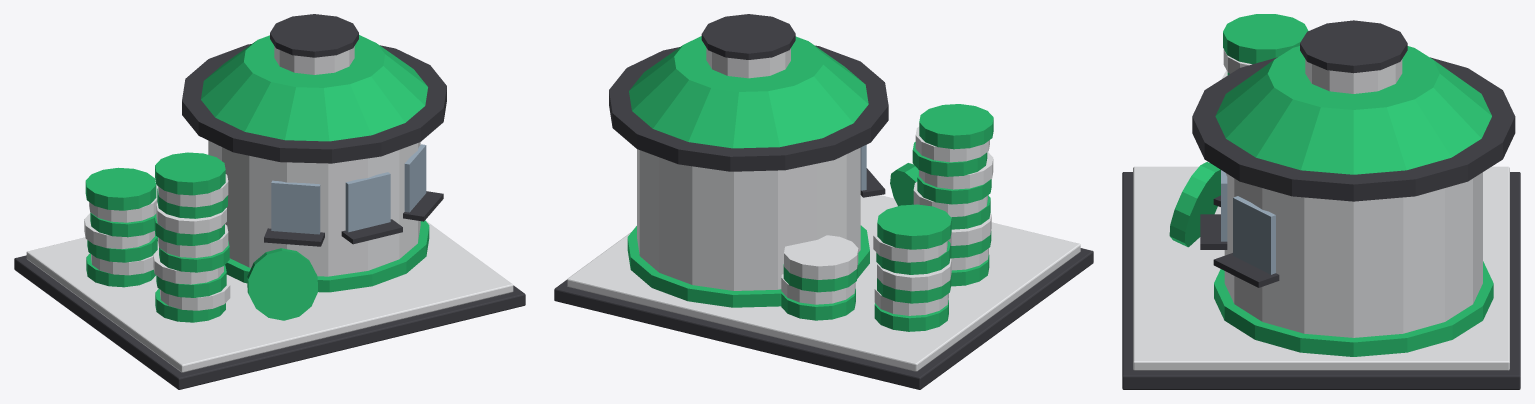
File: coins.glb
The picture shows the model from 3 angles, left to right: view 1: azimuth 30°, elevation 25°; view 2: azimuth 150°, elevation 25°; view 3: azimuth 270°, elevation 25°; orthographic projection. The views are drawn at different scales.
Visible parts, largest first — view 1: coins; view 2: coins; view 3: coins.
Boxes of the visible parts, x1,y1,x2,y2 form: coins: [14, 14, 525, 389]; coins: [554, 14, 1093, 389]; coins: [1122, 14, 1520, 389].
Bounding box in the file's own units: 9 × 5.72 × 7.4.
